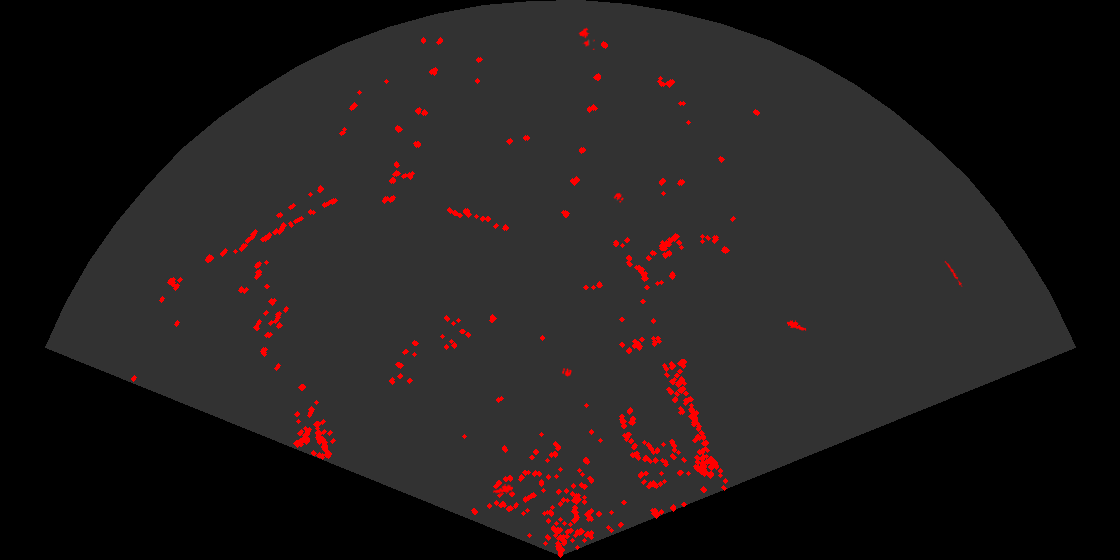ball: (612, 191, 625, 205), (560, 367, 573, 379)
cage: (577, 26, 595, 50)
chain: (943, 259, 964, 287)
frogman: (491, 482, 513, 495), (787, 319, 807, 332)
